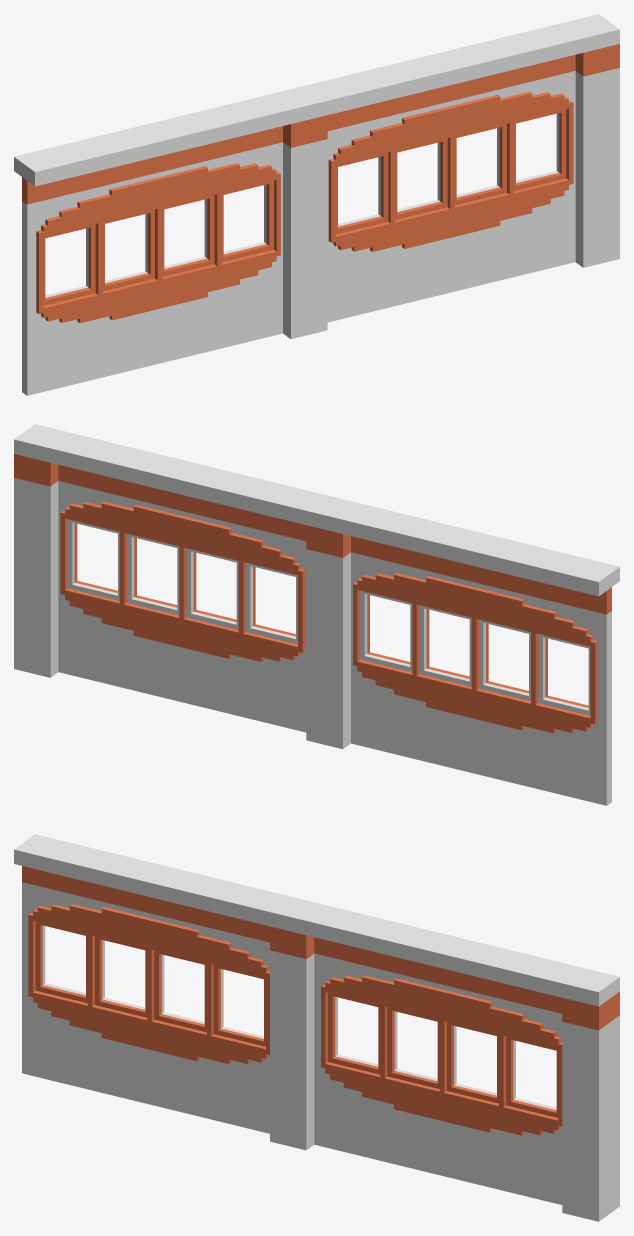
The model's file is inside_classroom_window_2.obj.
3 renders of one model, top to bottom at view 1: azimuth 30°, elevation 25°; view 2: azimuth 150°, elevation 25°; view 3: azimuth 330°, elevation 25°, orthographic.
Bounding box in the file's own units: 12.8 × 4.8 × 0.8.
Materials: 1 (1 with a texture image).
